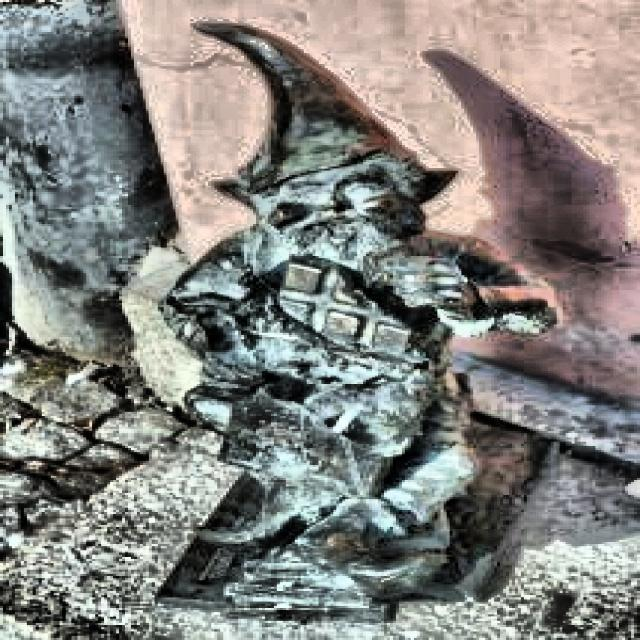Wedelek: (162, 24, 549, 611)
